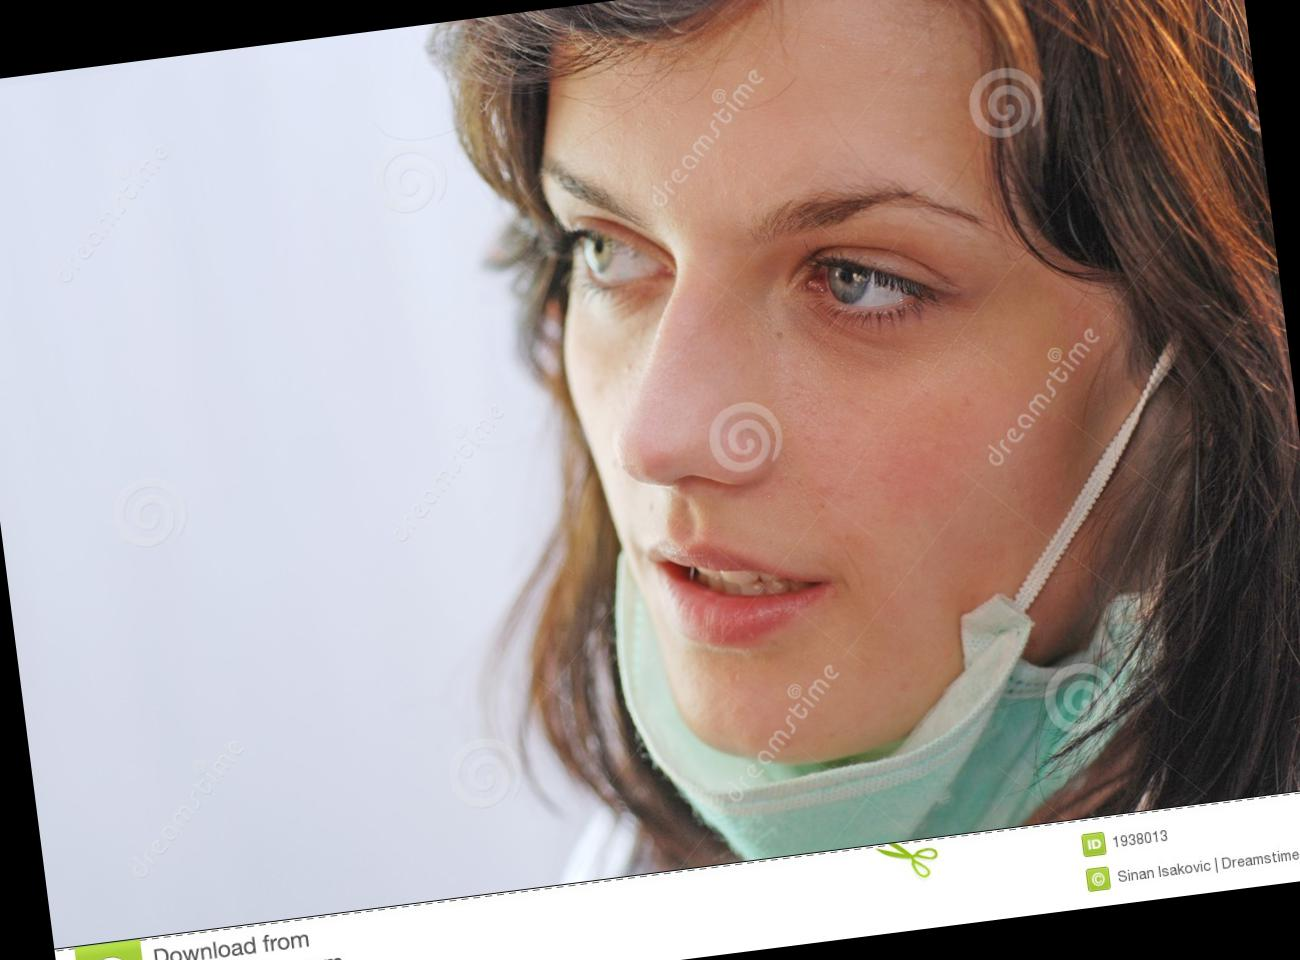mask_weared_incorrect: (549, 132, 1116, 843)
